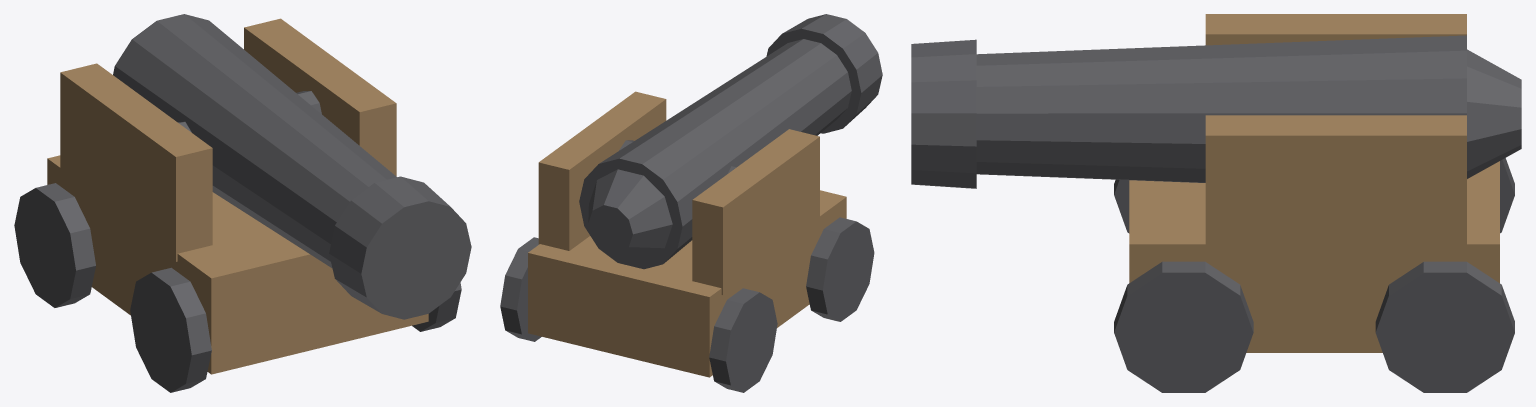
Rendered from DreadholdCannon.fbx.
3 renders of one model, left to right at view 1: azimuth 30°, elevation 25°; view 2: azimuth 150°, elevation 25°; view 3: azimuth 270°, elevation 25°, orthographic. The views are drawn at different scales.
Visible parts, largest first — view 1: Carriage, Barrel; view 2: Carriage, Barrel; view 3: Carriage, Barrel.
Part boxes in pixels (x1=…): Carriage: x1=14, y1=18, x2=461, y2=392; Barrel: x1=113, y1=14, x2=471, y2=319; Carriage: x1=500, y1=91, x2=874, y2=392; Barrel: x1=579, y1=14, x2=882, y2=269; Carriage: x1=1114, y1=14, x2=1514, y2=392; Barrel: x1=911, y1=35, x2=1521, y2=188.
Size of the model in its own units: 1.62 by 1.4 by 2.8.
